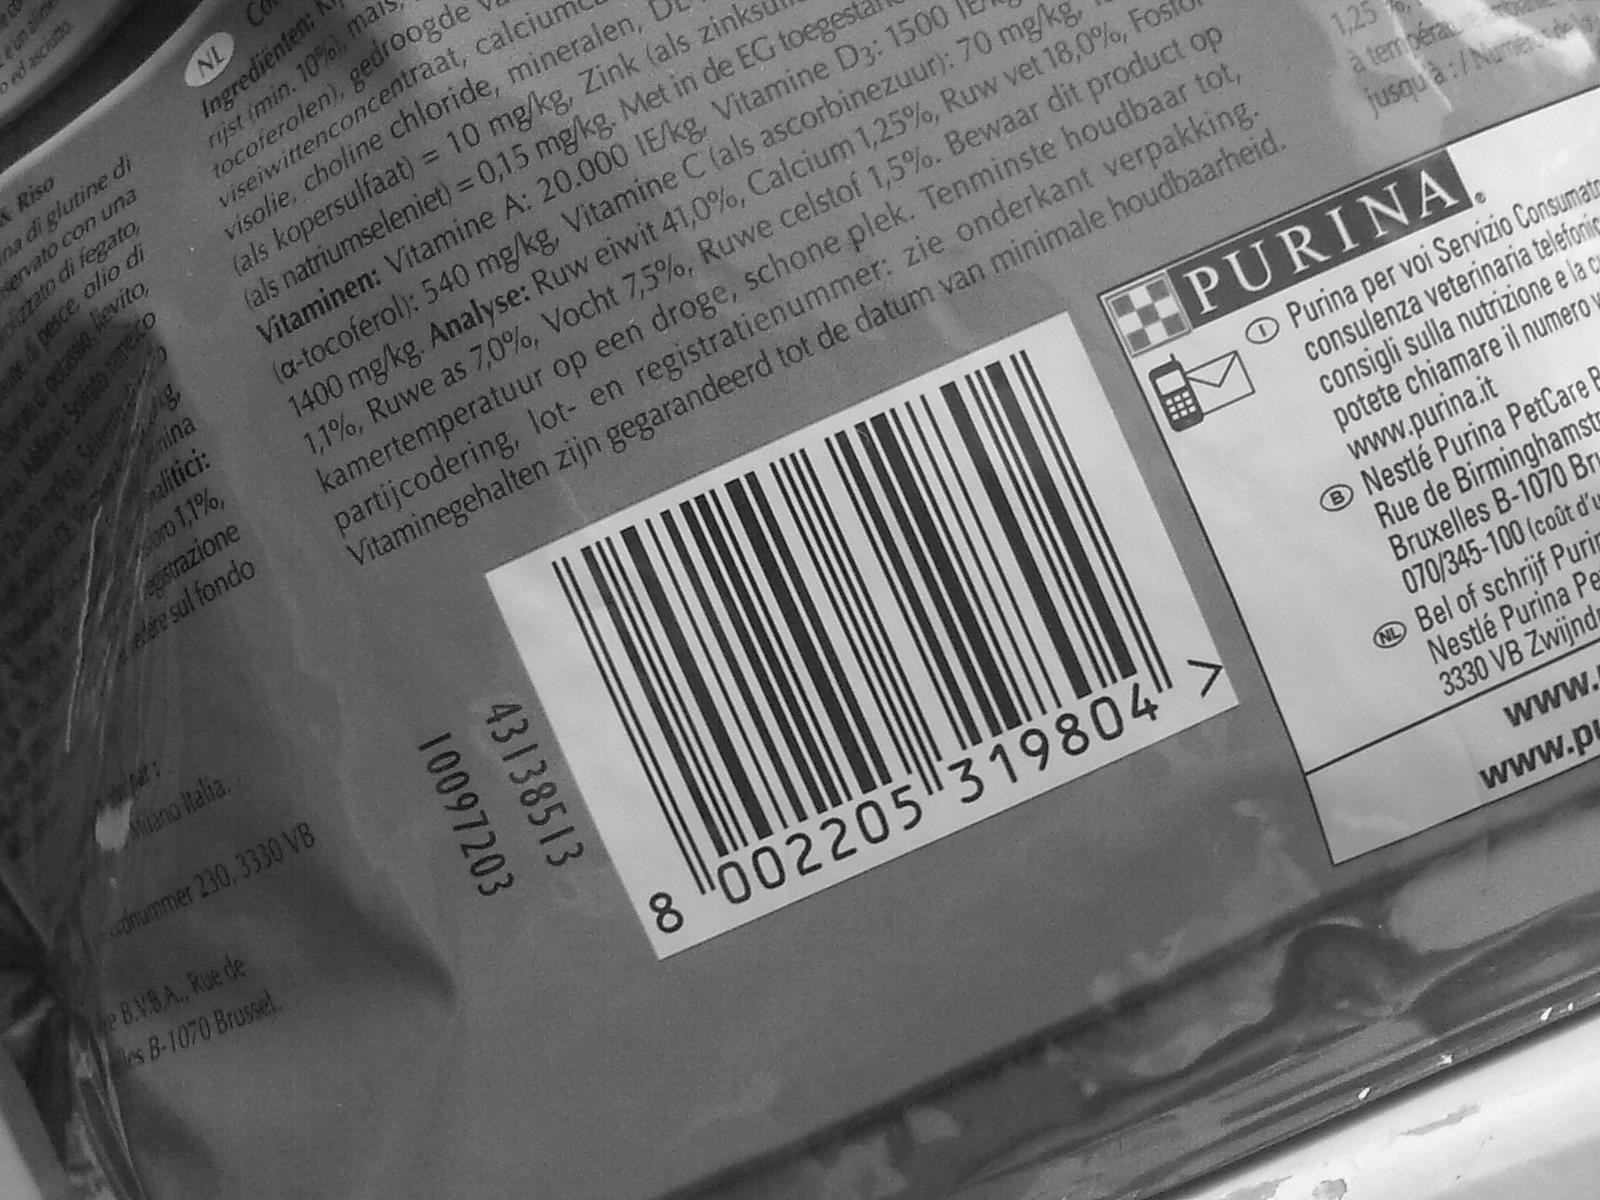Barcode: (546, 308, 1194, 885)
